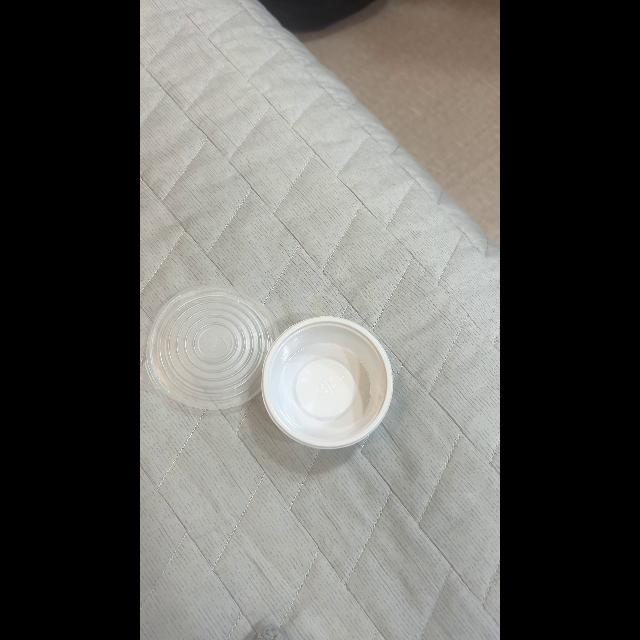clean: (261, 317, 394, 447), (146, 287, 280, 409)
